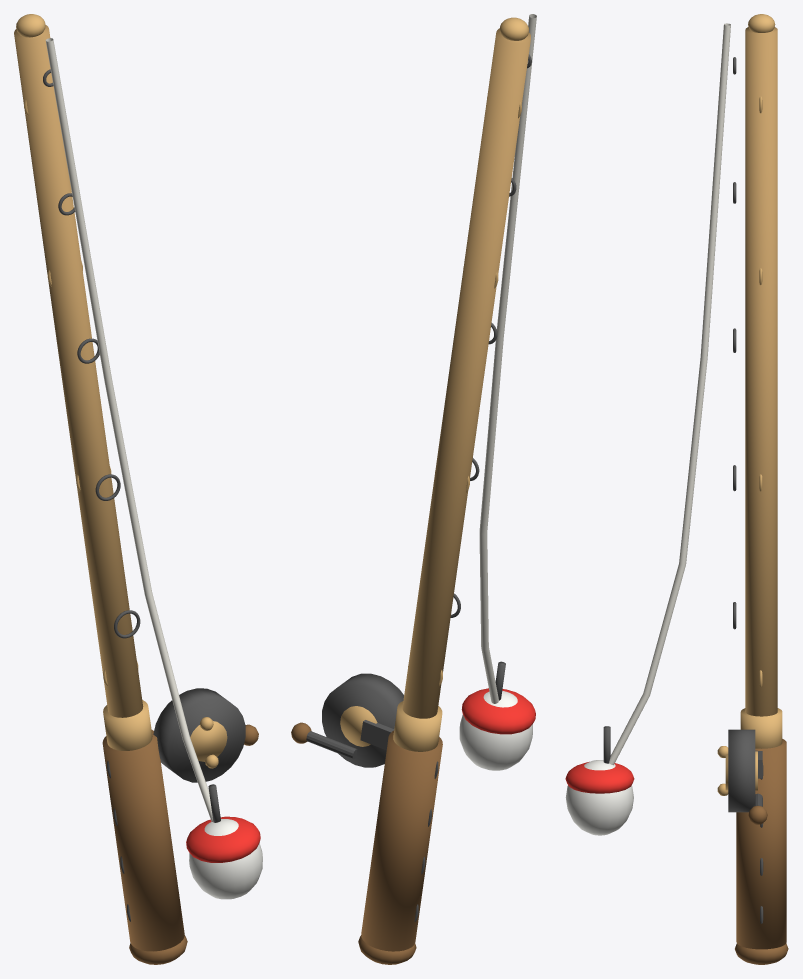
Rendered from woodenrodmk411.fbx.
3 renders of one model, left to right at view 1: azimuth 30°, elevation 25°; view 2: azimuth 150°, elevation 25°; view 3: azimuth 270°, elevation 25°, orthographic. The views are drawn at different scales.
Visible parts, largest first — view 1: Wooden_Rod_One_Whole_Part; view 2: Wooden_Rod_One_Whole_Part; view 3: Wooden_Rod_One_Whole_Part.
Part boxes in pixels (<box>): Wooden_Rod_One_Whole_Part: <box>14,14,262,964</box>; Wooden_Rod_One_Whole_Part: <box>291,14,536,964</box>; Wooden_Rod_One_Whole_Part: <box>565,14,788,964</box>.
Bounding box in the file's own units: 70.22 × 273 × 62.1.
